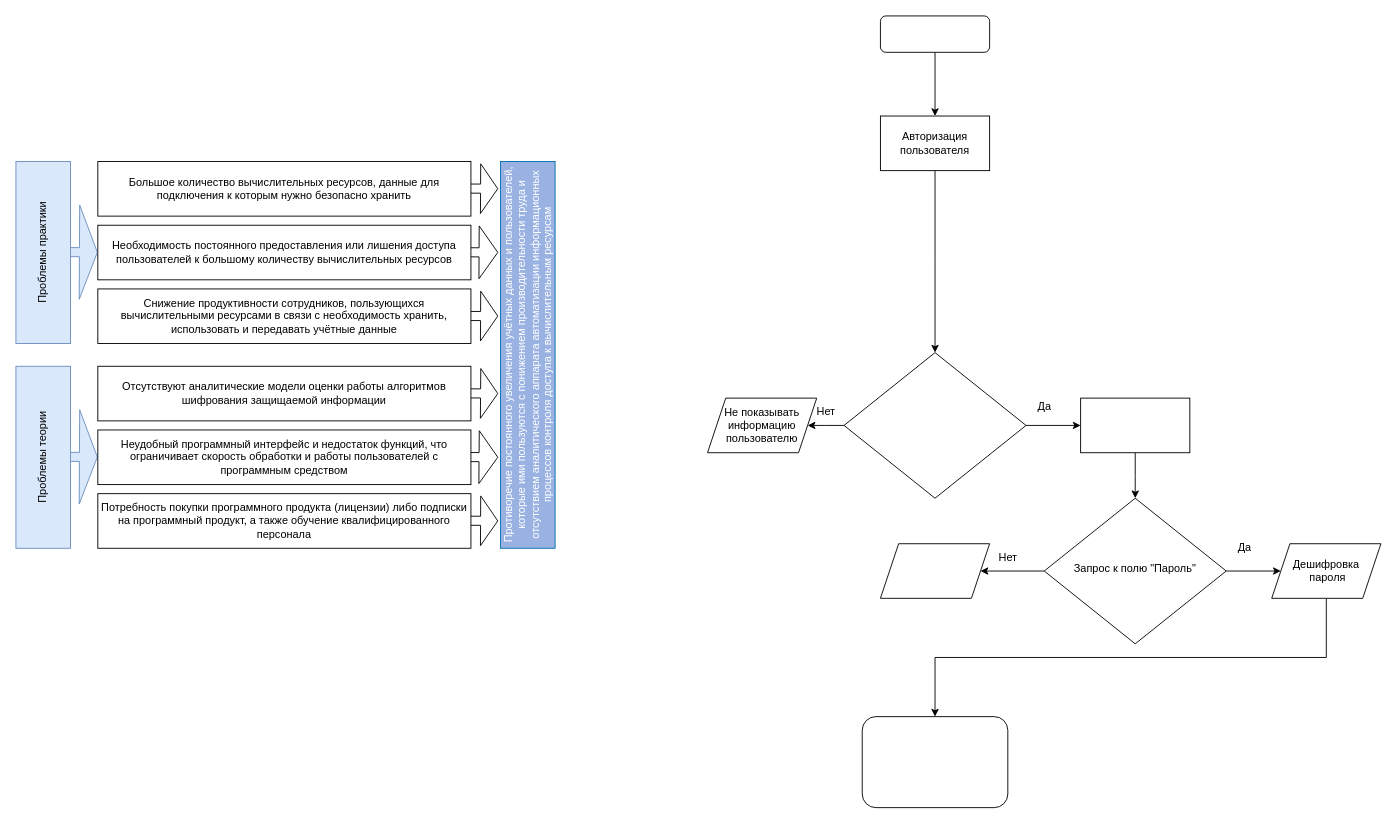
This 1397x824 diagram has some shape labels left out. The shapes that lost their labels are listed below. From the top down, each one's box as (x1, y1, x2, y2) in pixels, then its label:
(880, 15, 990, 52): Начало
(843, 352, 1026, 498): Пользователь имеет доступ к информации об этой ИС
(1080, 397, 1190, 453): Поиск информации о требуемой ИС
(880, 543, 990, 598): Вывод только общей информации о системе
(861, 716, 1008, 808): Вывод полной учётной информации для подклбчения пользователя к ИС
